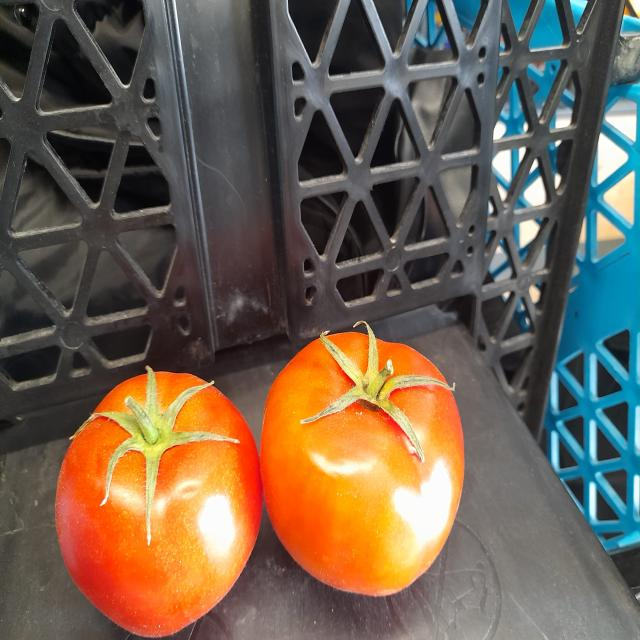tomato: (46, 338, 264, 640), (256, 304, 472, 601)
